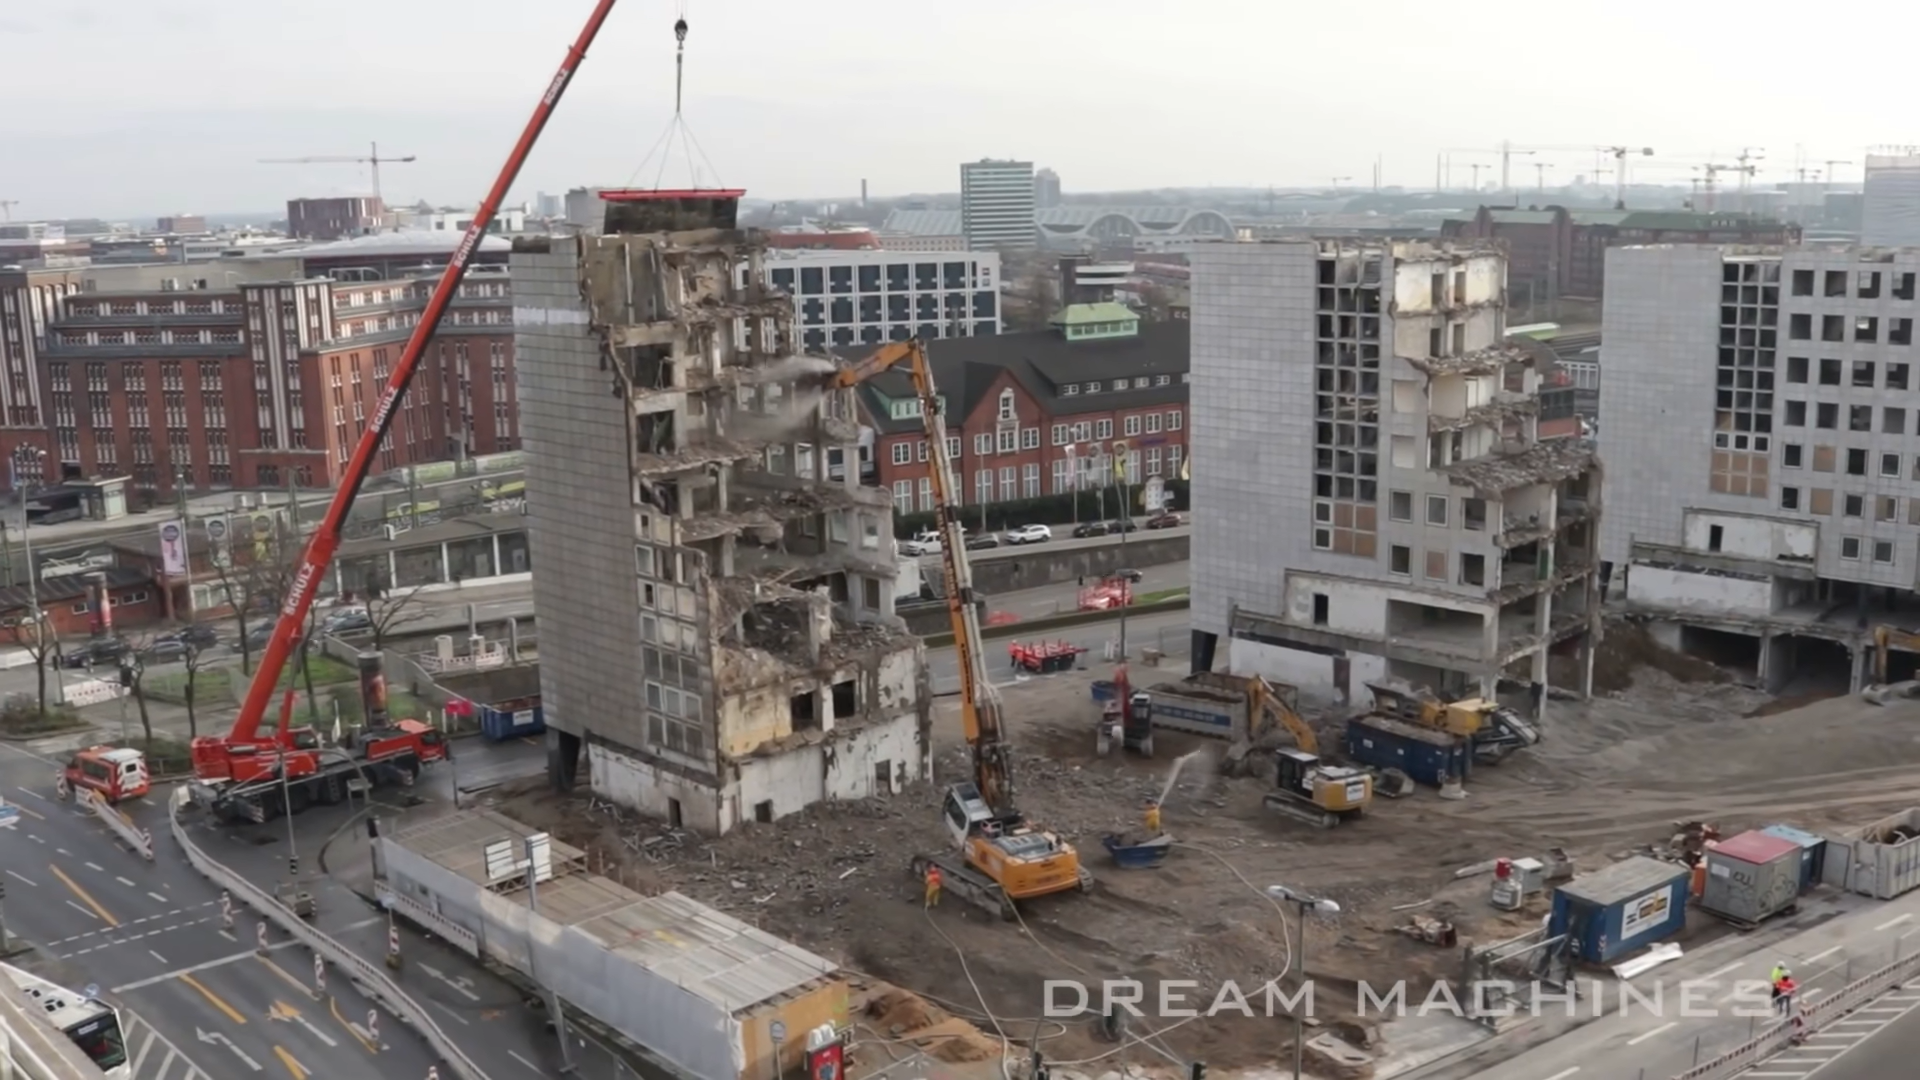excavator: (814, 328, 1104, 934), (1211, 670, 1389, 825)
